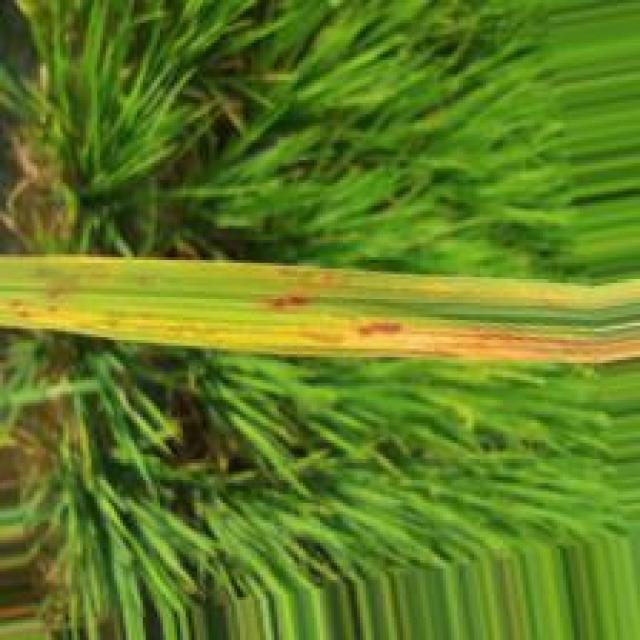Narrow_Brown_Leaf_Spot: (0, 298, 640, 372), (240, 272, 447, 310)
